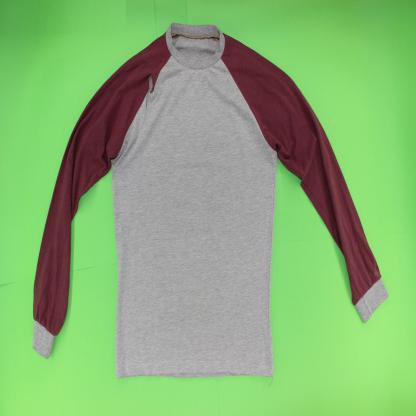hole: (143, 71, 156, 113)
